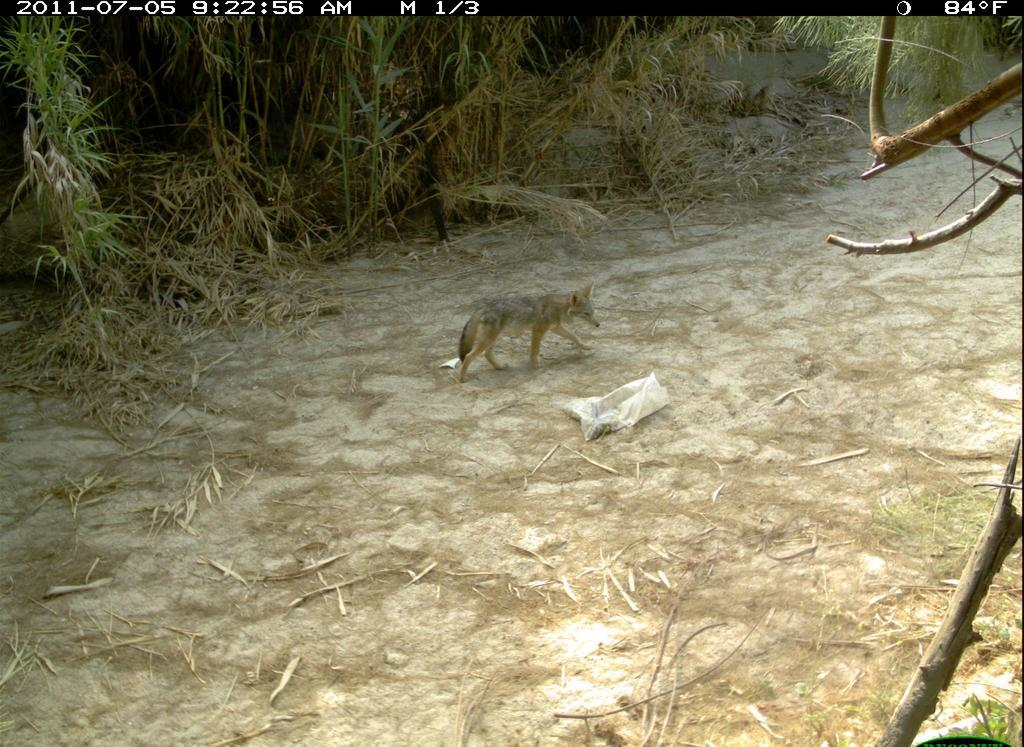coyote: (454, 267, 616, 390)
